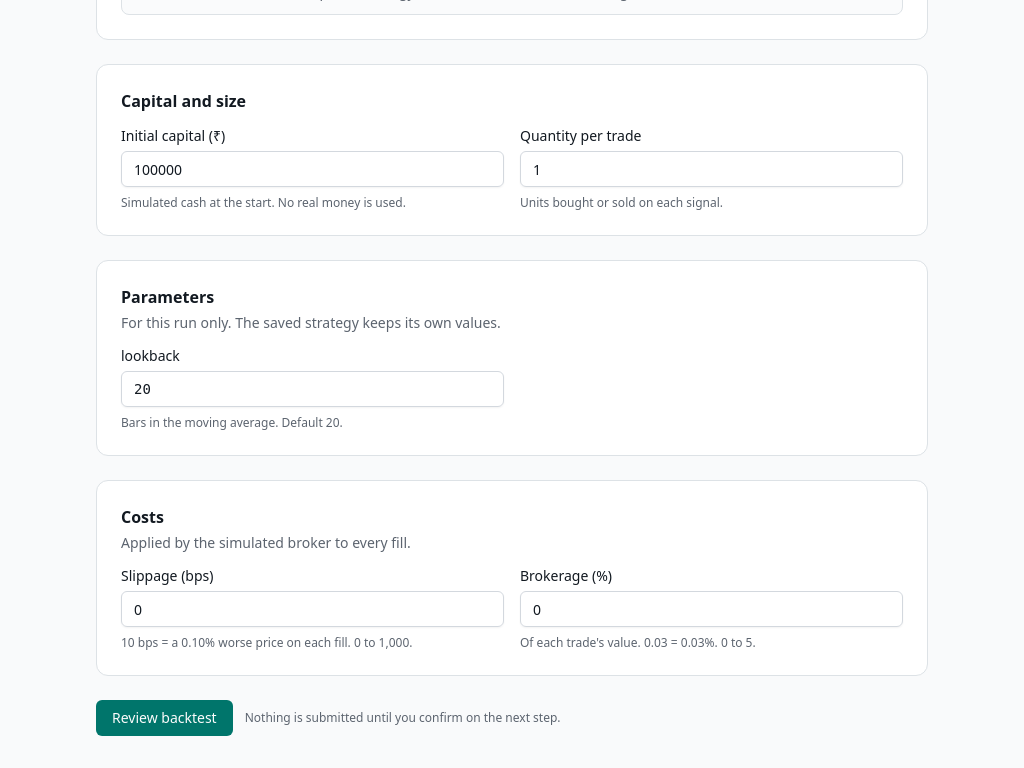
NewBacktestPage › nothing is sent while fields are wrong or the dates have no data
(page scrolled)
Step 1. Replace the text in the field labelled "lookback" with "x" → (312, 389), box x1=121 y1=371 x2=504 y2=407
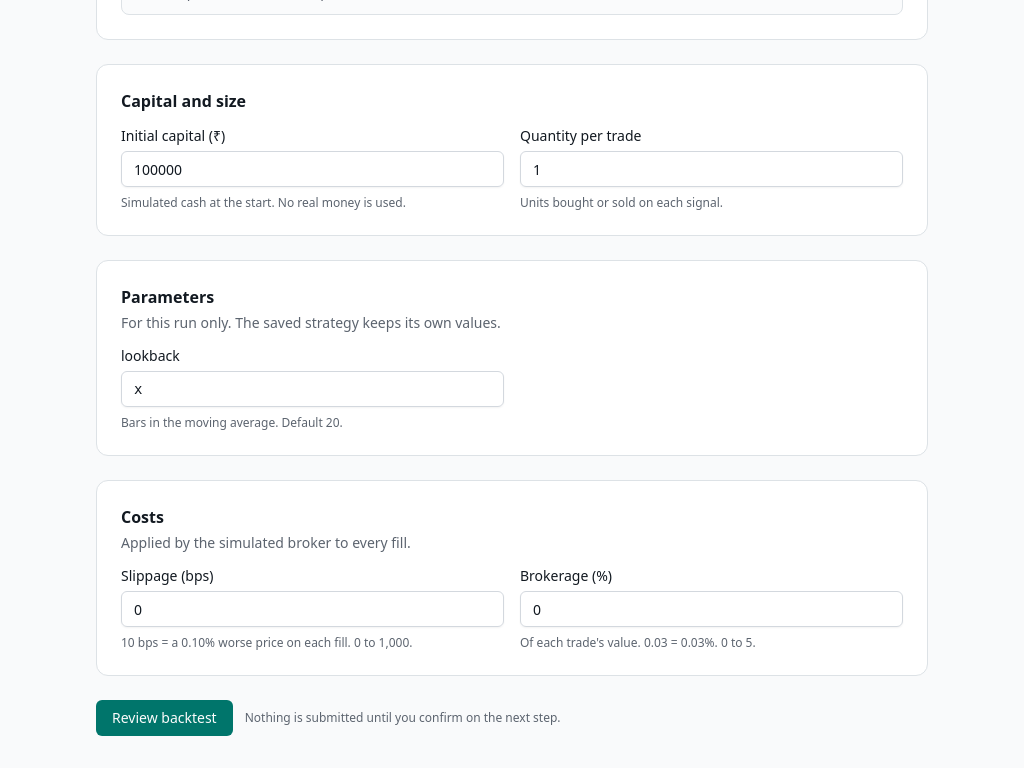
Step 2. Replace the text in the field labelled "Initial capital (₹)" with "-5" → (312, 169), box x1=121 y1=151 x2=504 y2=187
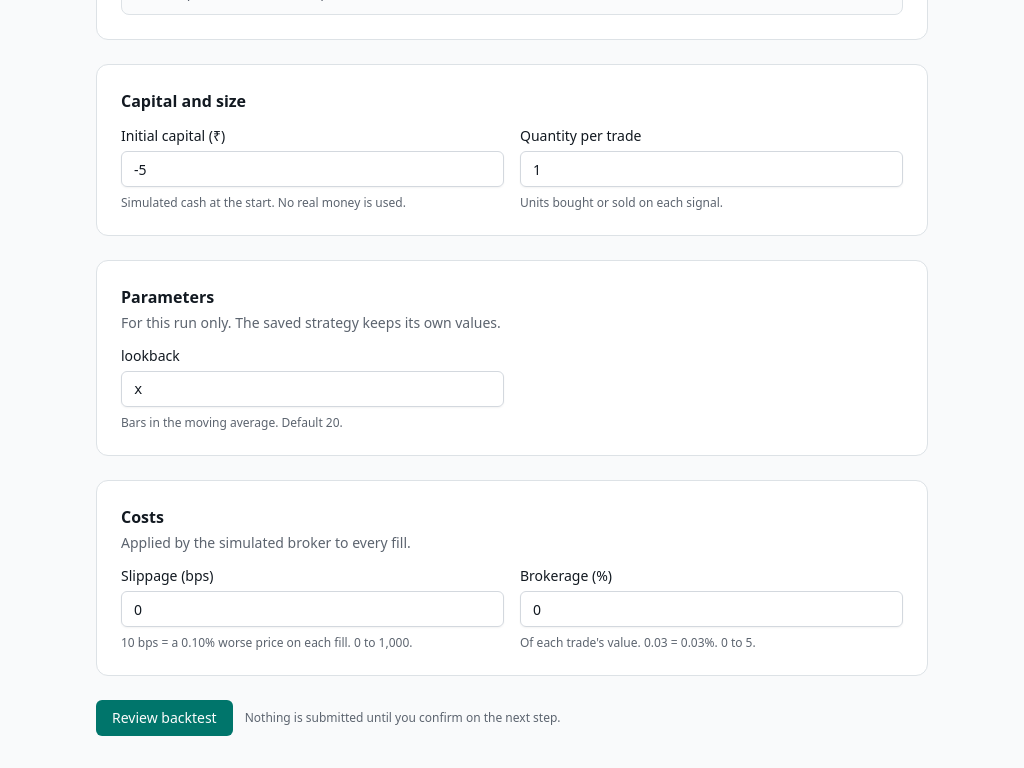
Step 3. Click the button "Review backtest" → (164, 718), box x1=96 y1=700 x2=233 y2=736
(page scrolled)
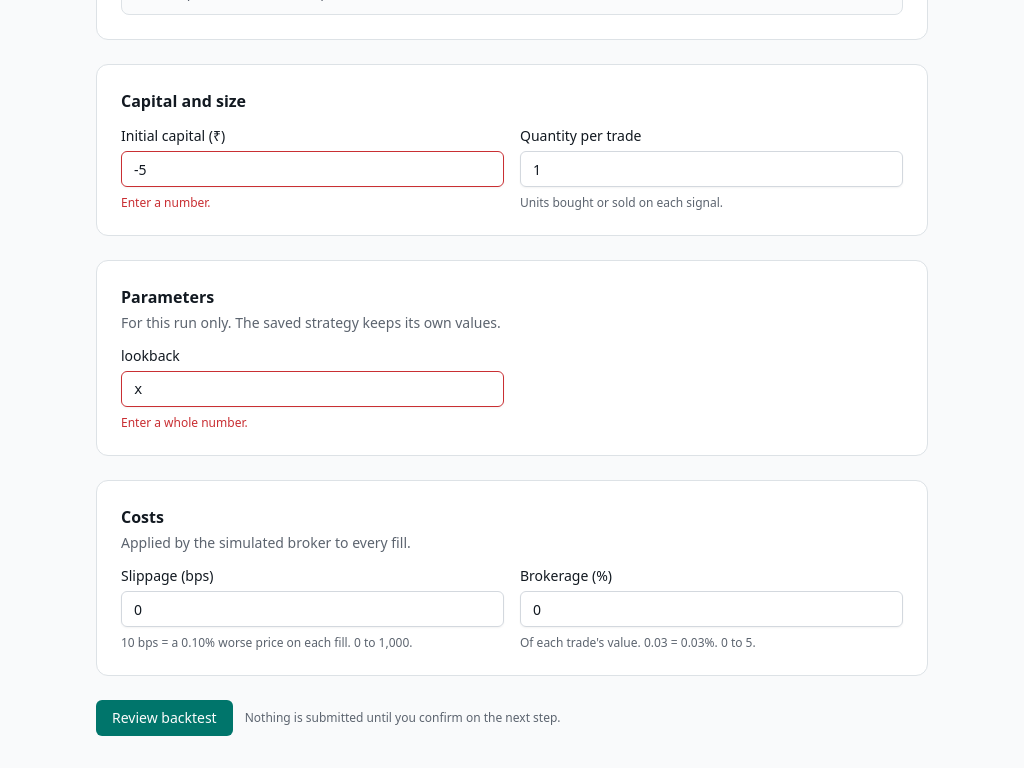
Result: the text "Enter a whole number." is shown at x1=121 y1=414 x2=248 y2=431
Result: the text "Enter a number." is shown at x1=121 y1=194 x2=211 y2=211
